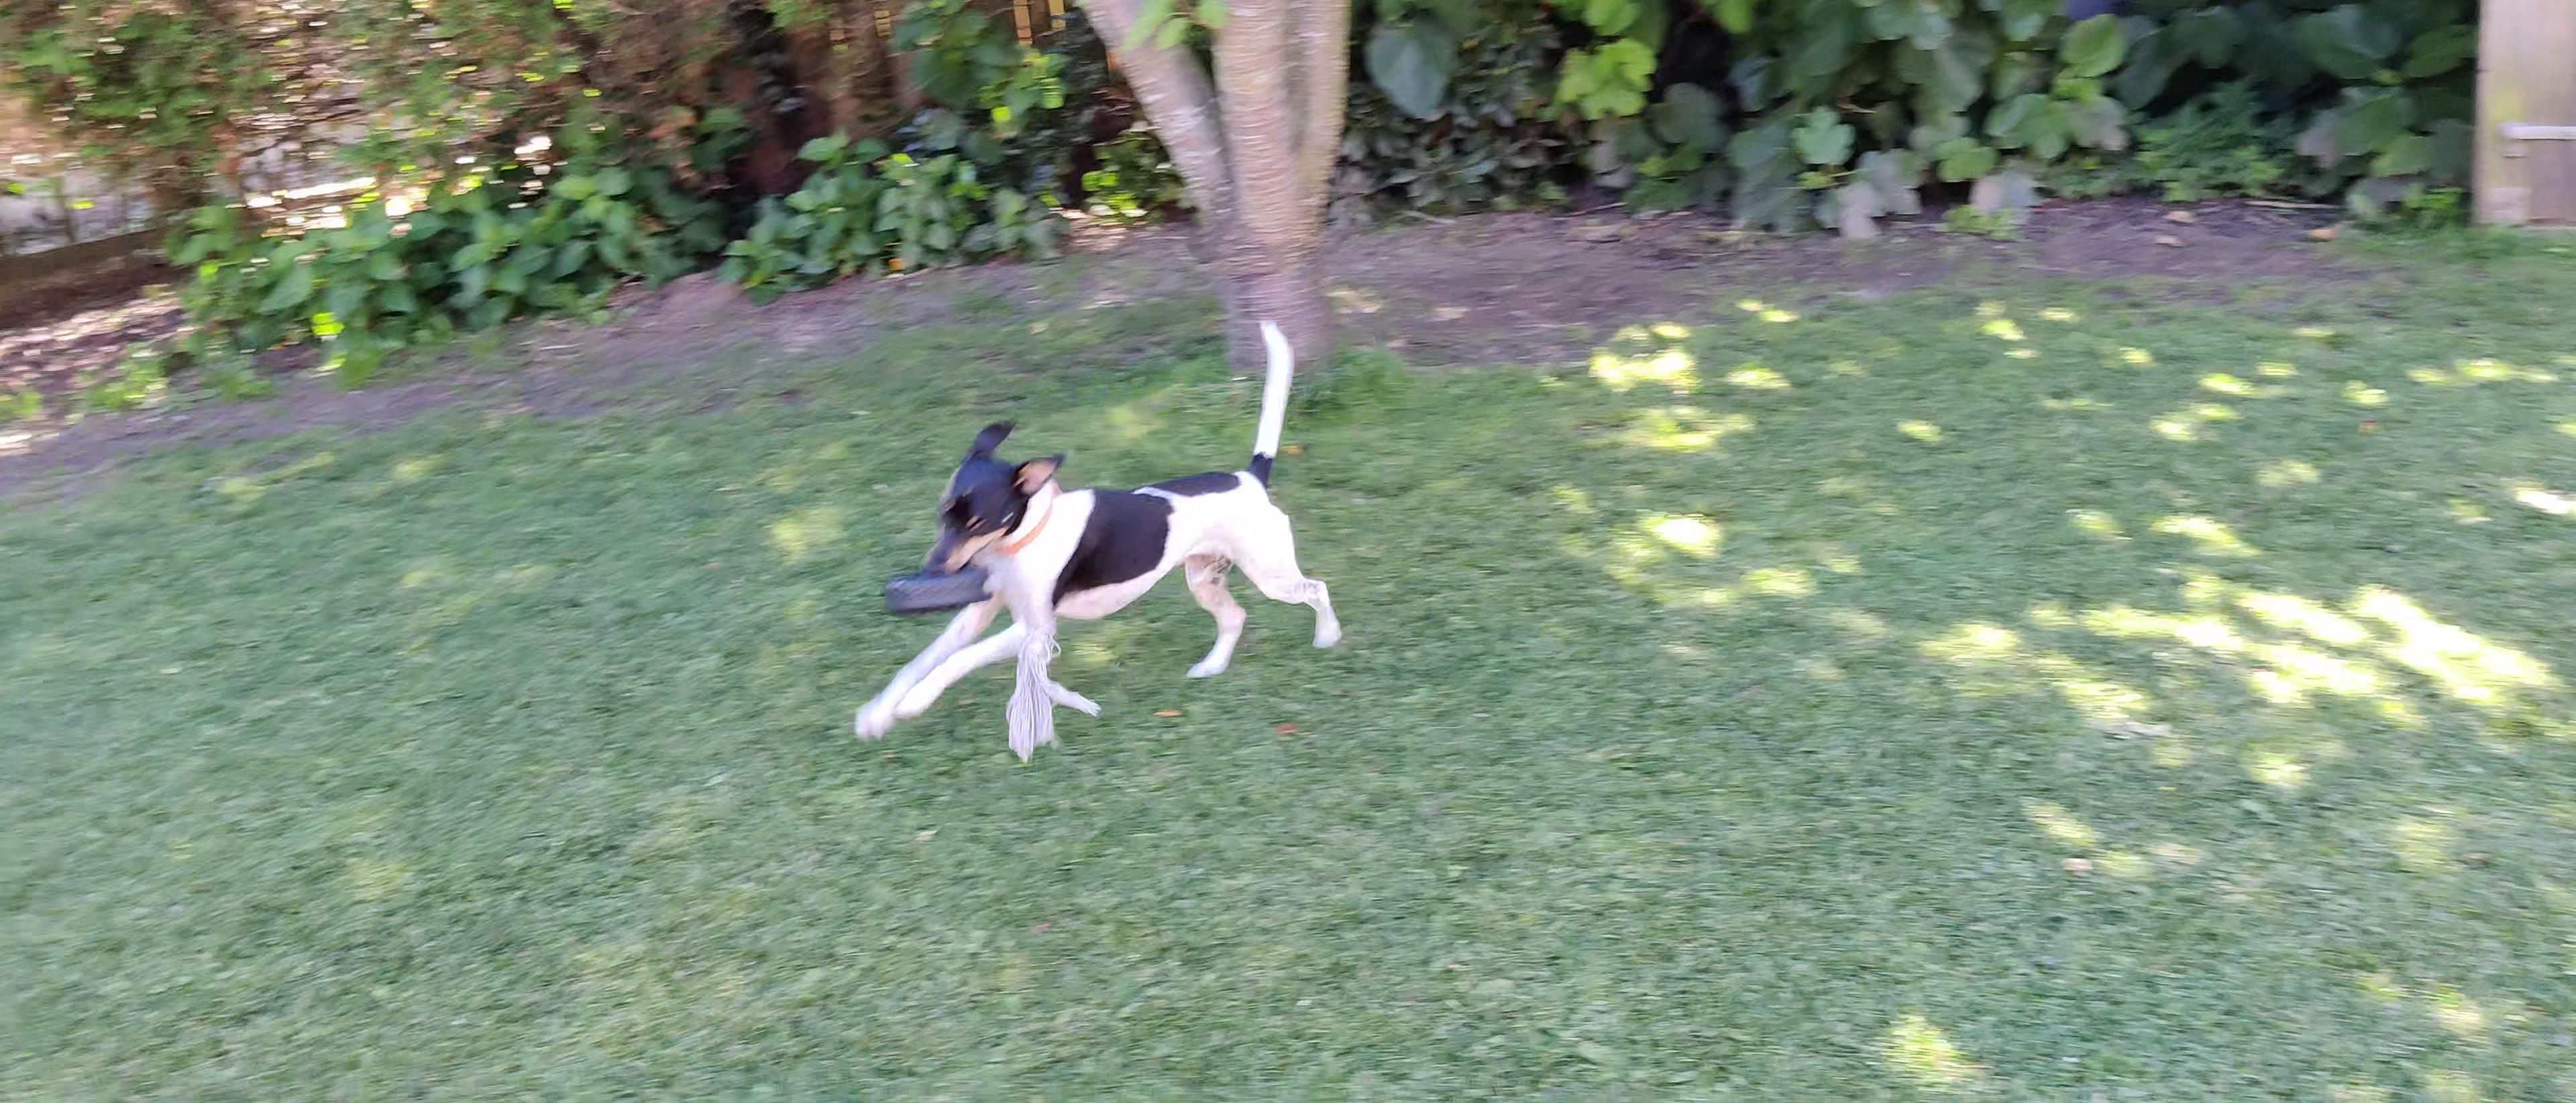Dog: (825, 299, 1367, 756)
